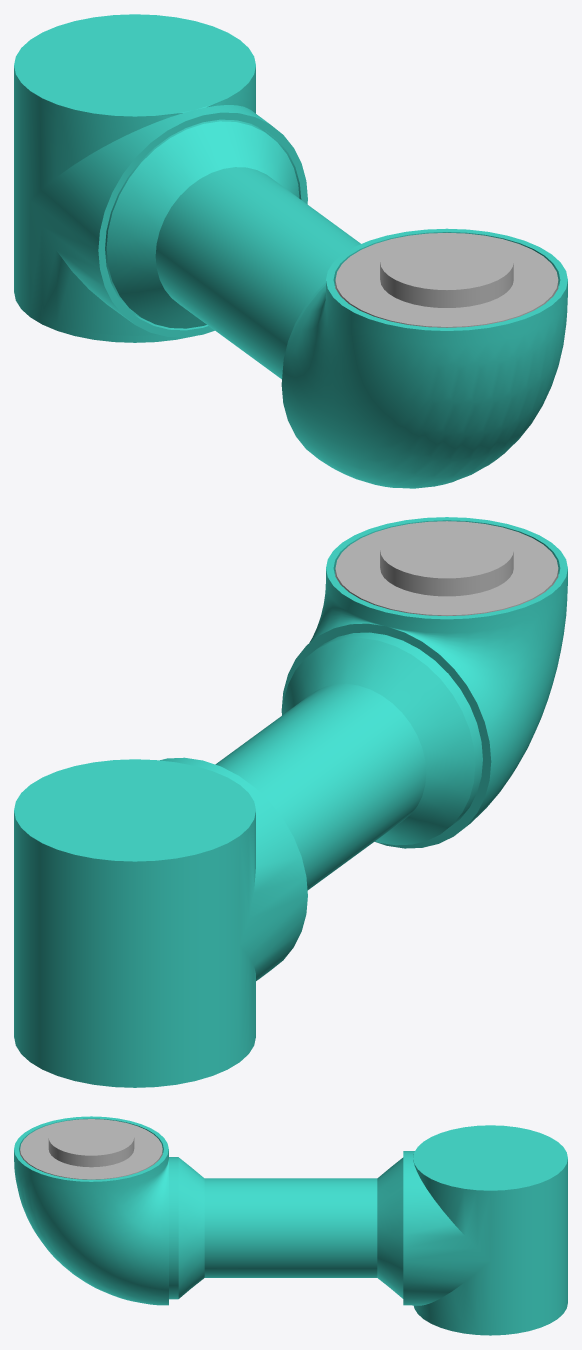
3 renders of one model, top to bottom at view 1: azimuth 30°, elevation 25°; view 2: azimuth 150°, elevation 25°; view 3: azimuth 270°, elevation 25°, orthographic. The views are drawn at different scales.
Parts seen in each view (by area): view 1: link3; view 2: link3; view 3: link3.
Part boxes in pixels (bbox=[...]): link3: bbox=[14, 14, 567, 488]; link3: bbox=[14, 517, 567, 1087]; link3: bbox=[14, 1116, 567, 1335].
Bounding box in the file's own units: 0.0634 × 0.2268 × 0.075.
